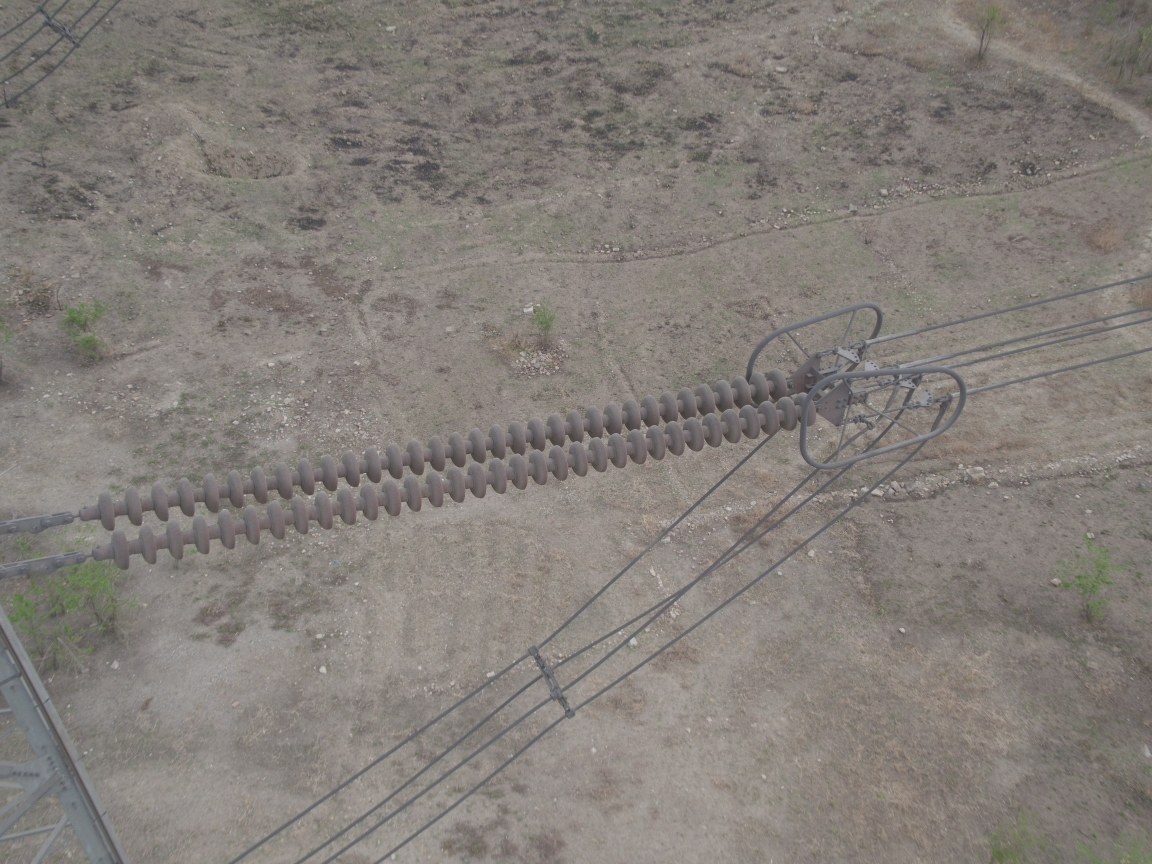insulator: (35, 365, 827, 574)
